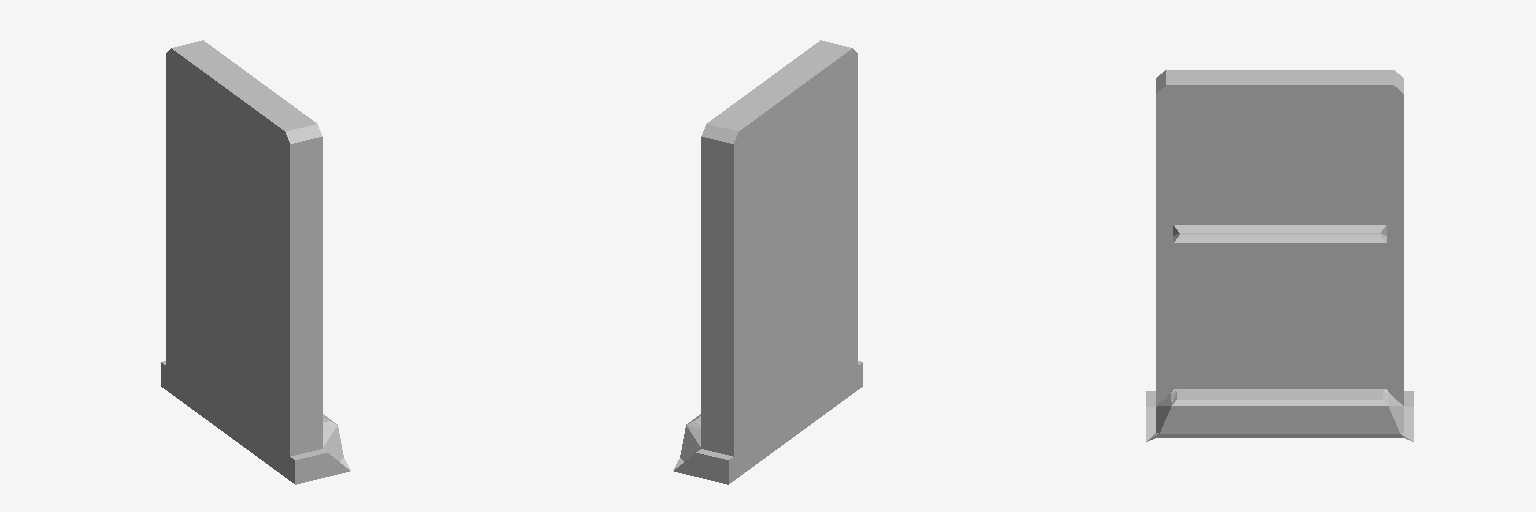
File: window1.obj
3 renders of one model, left to right at view 1: azimuth 30°, elevation 25°; view 2: azimuth 150°, elevation 25°; view 3: azimuth 270°, elevation 25°, orthographic.
Visible parts, largest first — view 1: Cube1; view 2: Cube1; view 3: Cube1.
Part boxes in pixels (x1,y1,x2,y2): Cube1: (161, 40, 350, 484); Cube1: (673, 40, 862, 484); Cube1: (1146, 70, 1413, 441).
Size of the model in its own units: 0.5169 by 3.07 by 2.17.